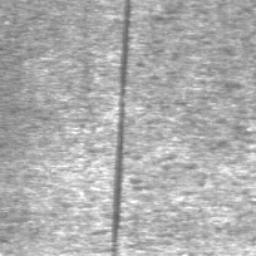Scratches: (111, 0, 131, 256)
